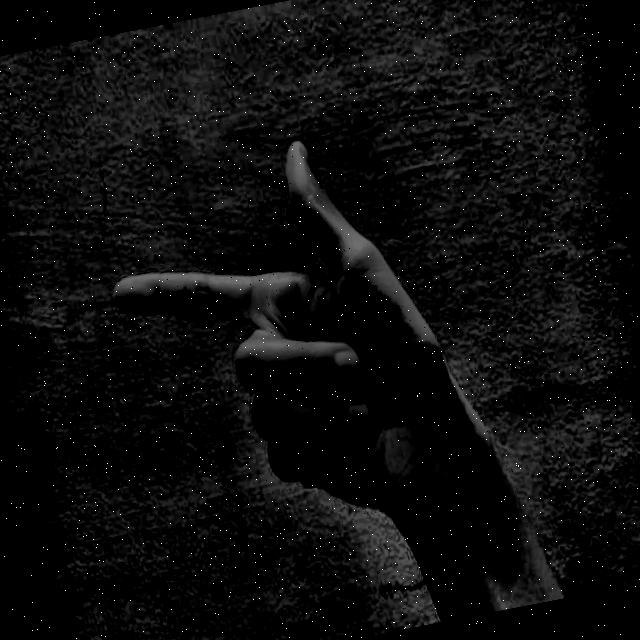Tho: (62, 74, 546, 578)
